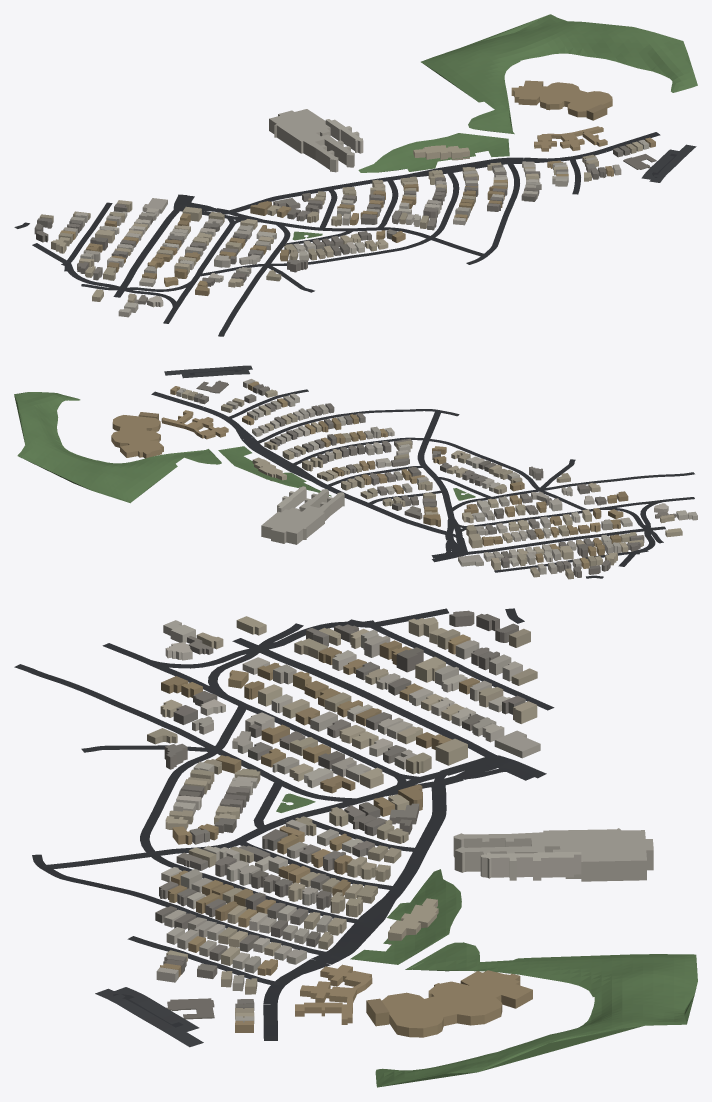
Rendered from tile_7_17.glb.
The picture shows the model from 3 angles, top to bottom: view 1: azimuth 30°, elevation 25°; view 2: azimuth 150°, elevation 25°; view 3: azimuth 270°, elevation 25°; orthographic projection. The views are drawn at different scales.
Parts seen in each view (by area): view 1: bld_7_17, grn_7_17, road_7_17; view 2: bld_7_17, road_7_17, grn_7_17; view 3: bld_7_17, road_7_17, grn_7_17.
Part boxes in pixels (x1=…): bld_7_17: x1=34, y1=80, x2=656, y2=317; grn_7_17: x1=292, y1=14, x2=697, y2=240; road_7_17: x1=14, y1=132, x2=696, y2=336; bld_7_17: x1=111, y1=379, x2=697, y2=579; road_7_17: x1=151, y1=365, x2=694, y2=578; grn_7_17: x1=14, y1=392, x2=475, y2=503; bld_7_17: x1=147, y1=610, x2=653, y2=1037; road_7_17: x1=14, y1=608, x2=554, y2=1047; grn_7_17: x1=276, y1=793, x2=697, y2=1087.
Bounding box in the file's own units: 955 × 76.62 × 528.
